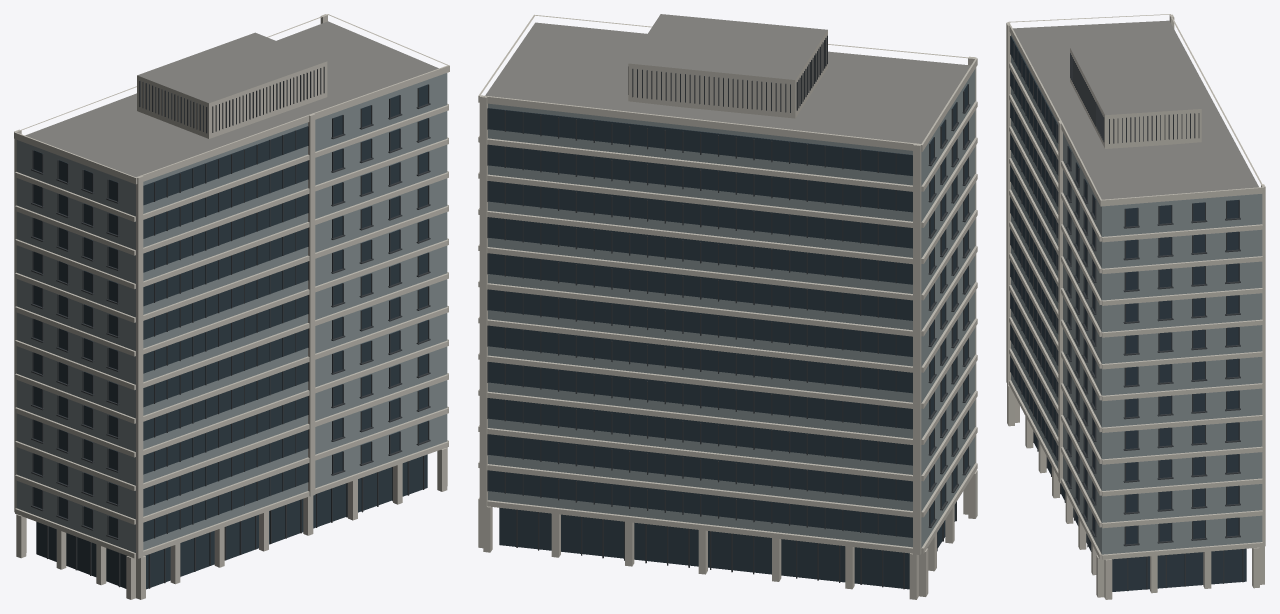
The model's file is newcombe_house.glb.
3 views of the same model, side by side, from view 1: azimuth 30°, elevation 25°; view 2: azimuth 150°, elevation 25°; view 3: azimuth 270°, elevation 25° (orthographic). The views are drawn at different scales.
Bounding box in the file's own units: 39.75 × 44.03 × 23.66.
